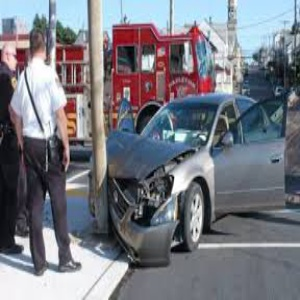bonnet: (106, 124, 171, 181)
bumper: (110, 189, 178, 267)
